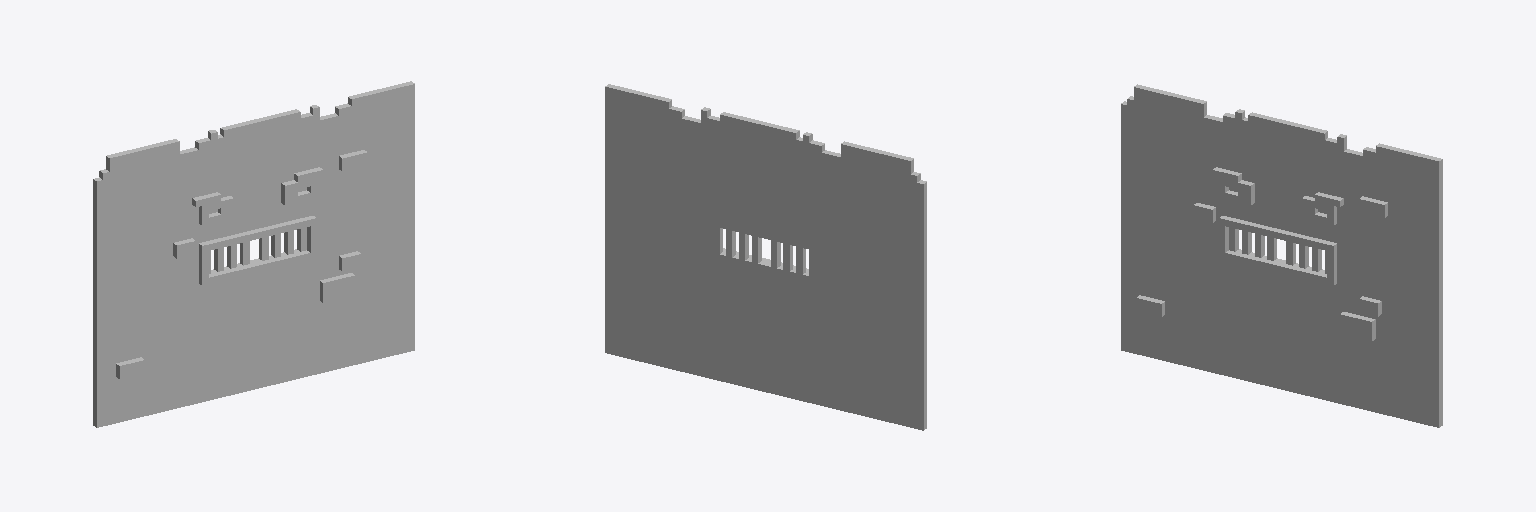
The model's file is Wall_Monster.obj.
The picture shows the model from 3 angles: view 1: azimuth 30°, elevation 25°; view 2: azimuth 150°, elevation 25°; view 3: azimuth 330°, elevation 25°; orthographic projection.
Visible parts, largest first — view 1: Wall_Monster; view 2: Wall_Monster; view 3: Wall_Monster.
Part boxes in pixels (bbox=[...]): Wall_Monster: bbox=[93, 81, 414, 427]; Wall_Monster: bbox=[605, 84, 926, 430]; Wall_Monster: bbox=[1121, 84, 1442, 427].
Size of the model in its own units: 5 by 4 by 0.2.